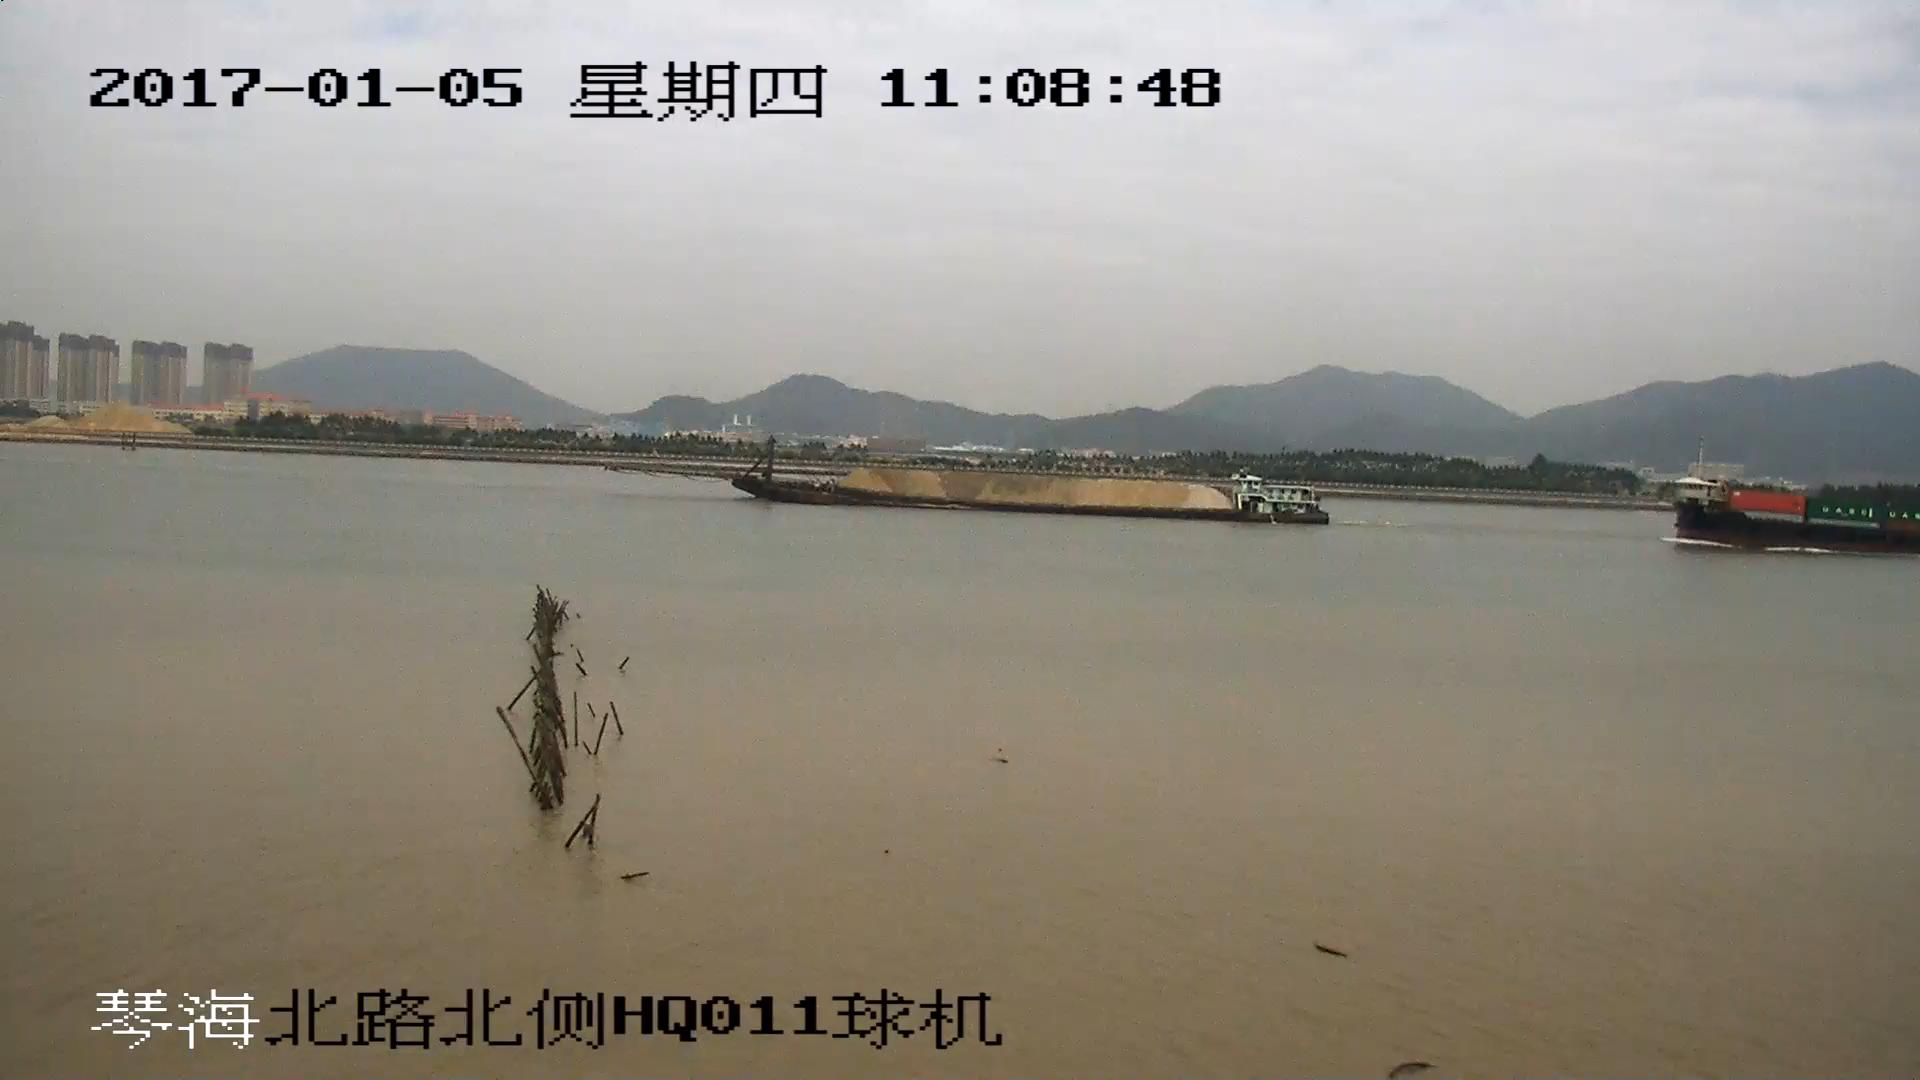container ship: (1670, 471, 1920, 552)
ore carrier: (609, 440, 1328, 526)
